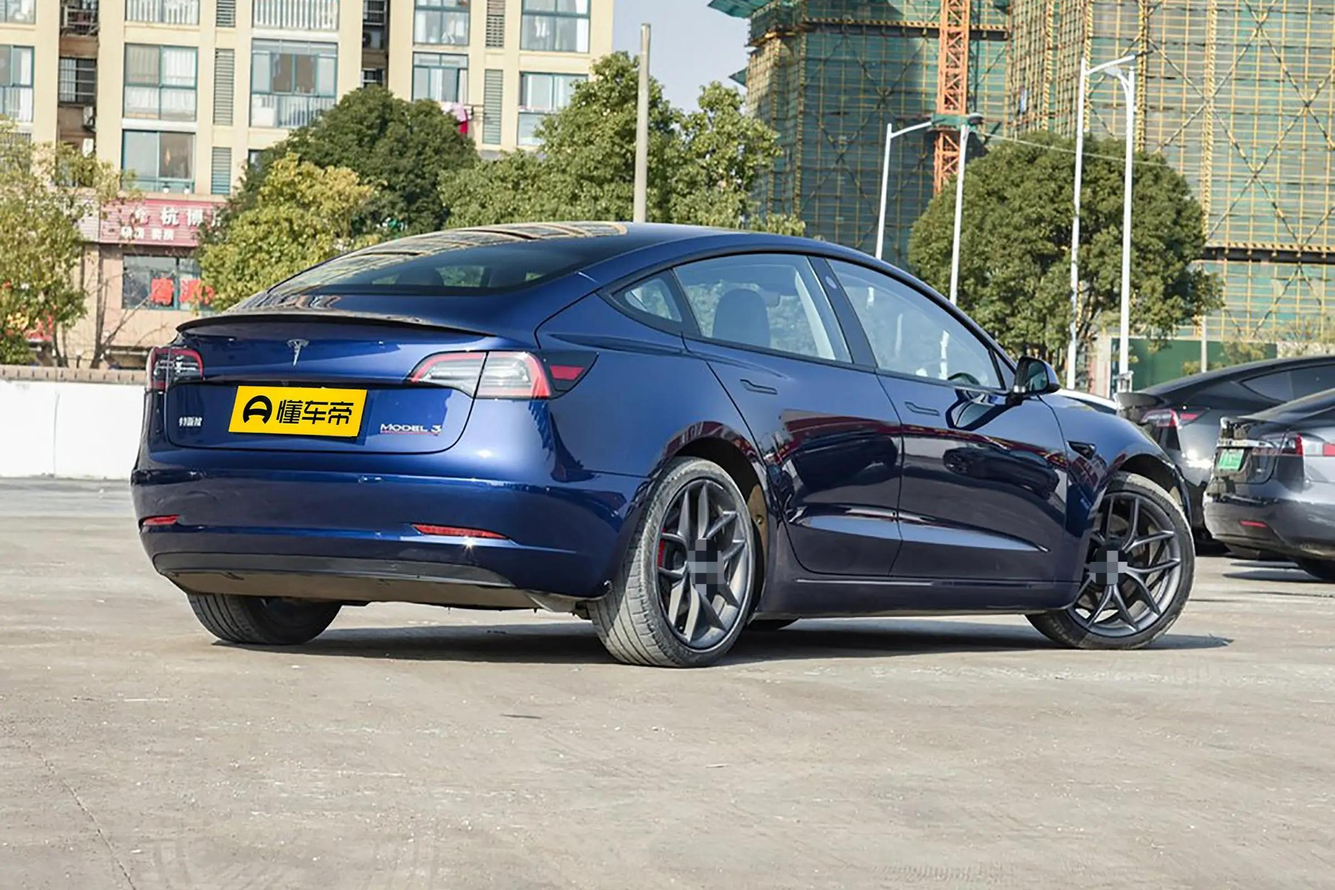Tesla: (286, 338, 310, 369)
